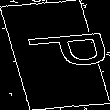P_E: (4, 33, 106, 77)
